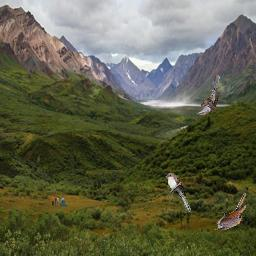Cuckoo: (214, 193, 246, 230), (165, 173, 191, 213), (196, 75, 220, 115)
